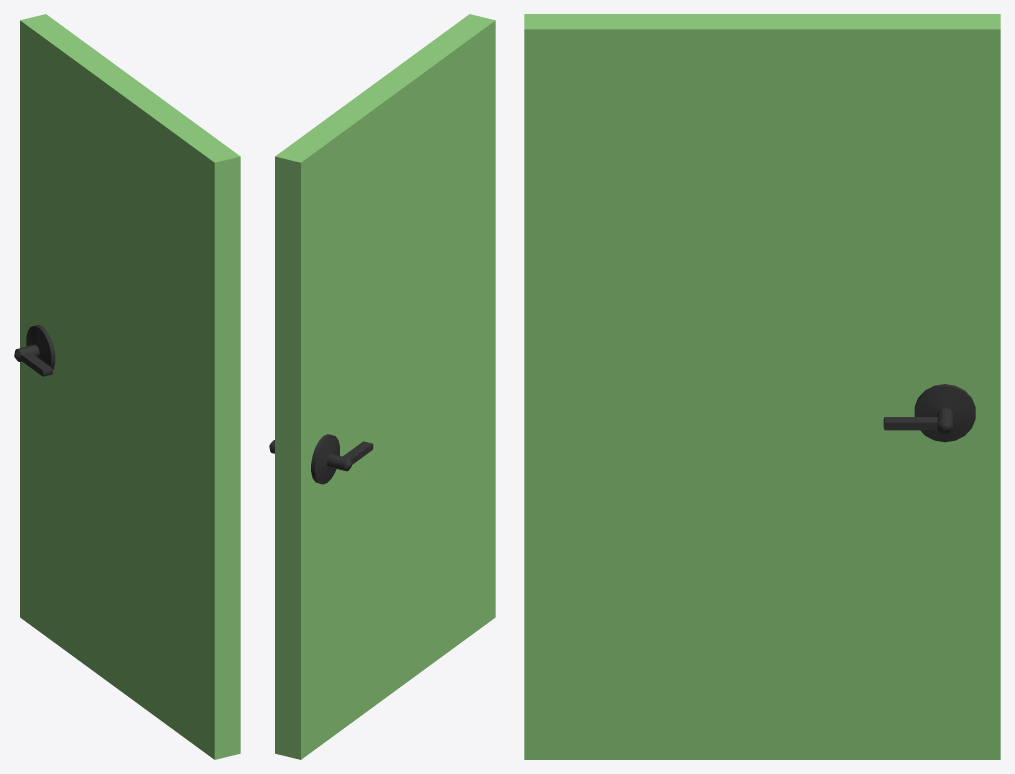
File: Door 1.fbx
3 renders of one model, left to right at view 1: azimuth 30°, elevation 25°; view 2: azimuth 150°, elevation 25°; view 3: azimuth 270°, elevation 25°, orthographic. The views are drawn at different scales.
Parts seen in each view (by area): view 1: Door; view 2: Door; view 3: Door.
Part boxes in pixels (x1,y1,x2,y2): Door: [14, 14, 240, 759]; Door: [269, 14, 495, 759]; Door: [524, 14, 1000, 759].
Bounding box in the file's own units: 31.19 × 220 × 130.
